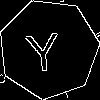Y: (23, 24, 62, 72)
